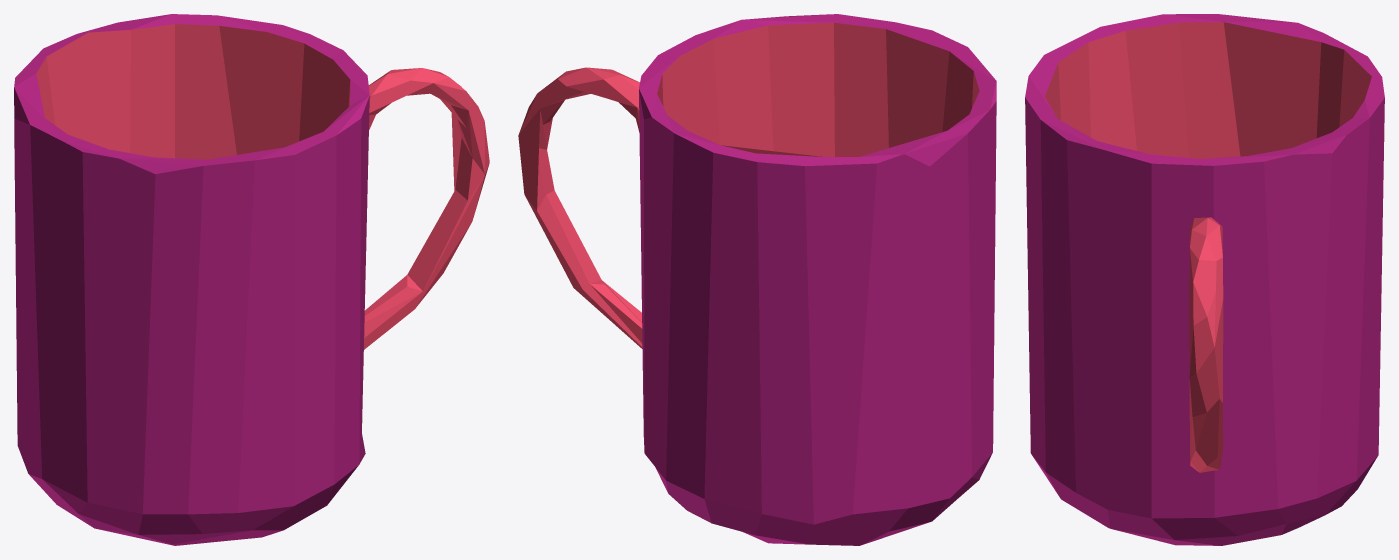
File: Cup01.fbx
The picture shows the model from 3 angles, left to right: view 1: azimuth 30°, elevation 25°; view 2: azimuth 150°, elevation 25°; view 3: azimuth 270°, elevation 25°; orthographic projection.
Parts seen in each view (by area): view 1: Cup01LowPoly; view 2: Cup01LowPoly; view 3: Cup01LowPoly.
Part boxes in pixels (left/top/right/bottom): Cup01LowPoly: left=14, top=14, right=489, bottom=545; Cup01LowPoly: left=518, top=14, right=996, bottom=545; Cup01LowPoly: left=1025, top=14, right=1384, bottom=545.
Size of the model in its own units: 11.35 by 9.93 by 7.83.
